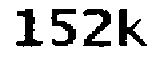1: (11, 7, 46, 49)
2: (79, 7, 113, 50)
5: (47, 8, 79, 50)
k: (117, 7, 148, 47)
